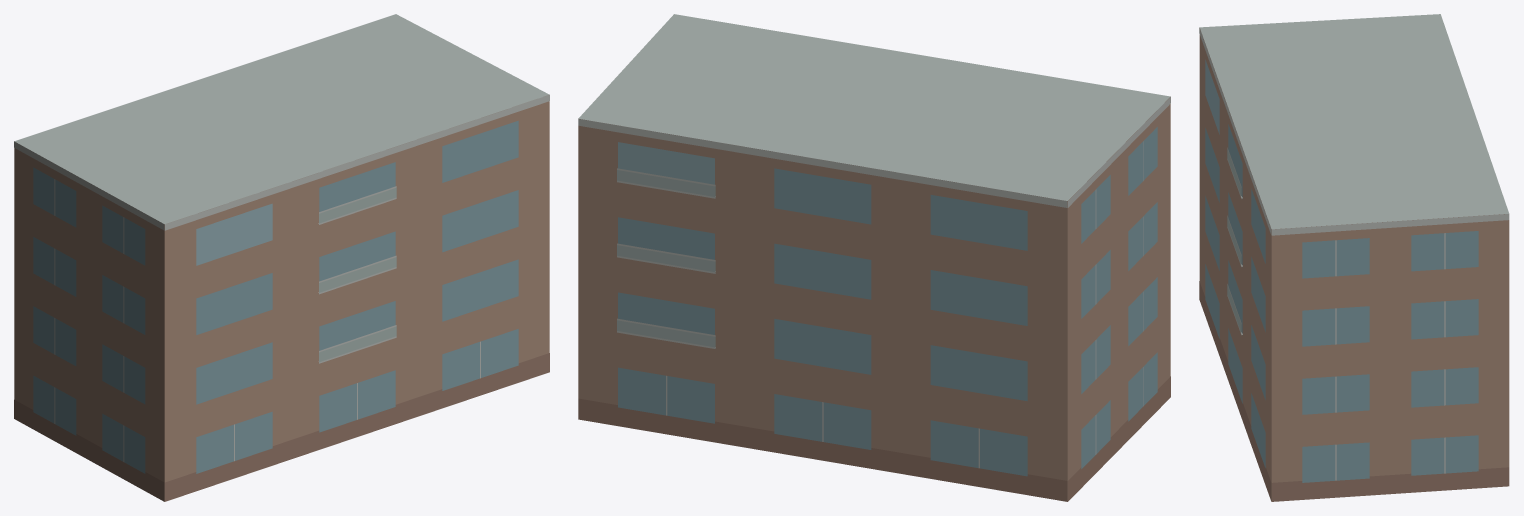
Rendered from survey-upis-32954149.glb.
3 renders of one model, left to right at view 1: azimuth 30°, elevation 25°; view 2: azimuth 150°, elevation 25°; view 3: azimuth 270°, elevation 25°, orthographic. The views are drawn at different scales.
Parts seen in each view (by area): view 1: survey-upis-32954149.tmp; view 2: survey-upis-32954149.tmp; view 3: survey-upis-32954149.tmp.
Part boxes in pixels (<box>): survey-upis-32954149.tmp: <box>14,14,549,501</box>; survey-upis-32954149.tmp: <box>578,14,1170,501</box>; survey-upis-32954149.tmp: <box>1199,14,1509,501</box>.
Bounding box in the file's own units: 17.8 × 10.5 × 10.83.
